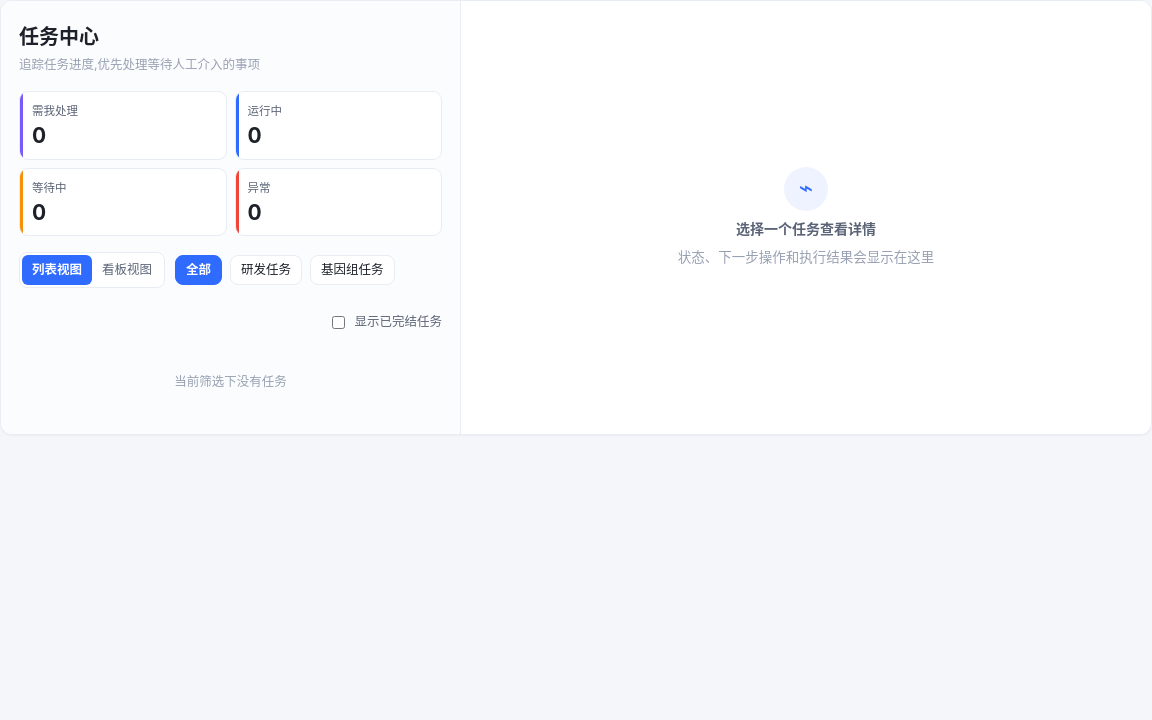
Test: TaskCenter › renders the lanes when the task list loads successfully
Click the button "看板视图".
click(127, 270)  # box x1=92 y1=255 x2=162 y2=285
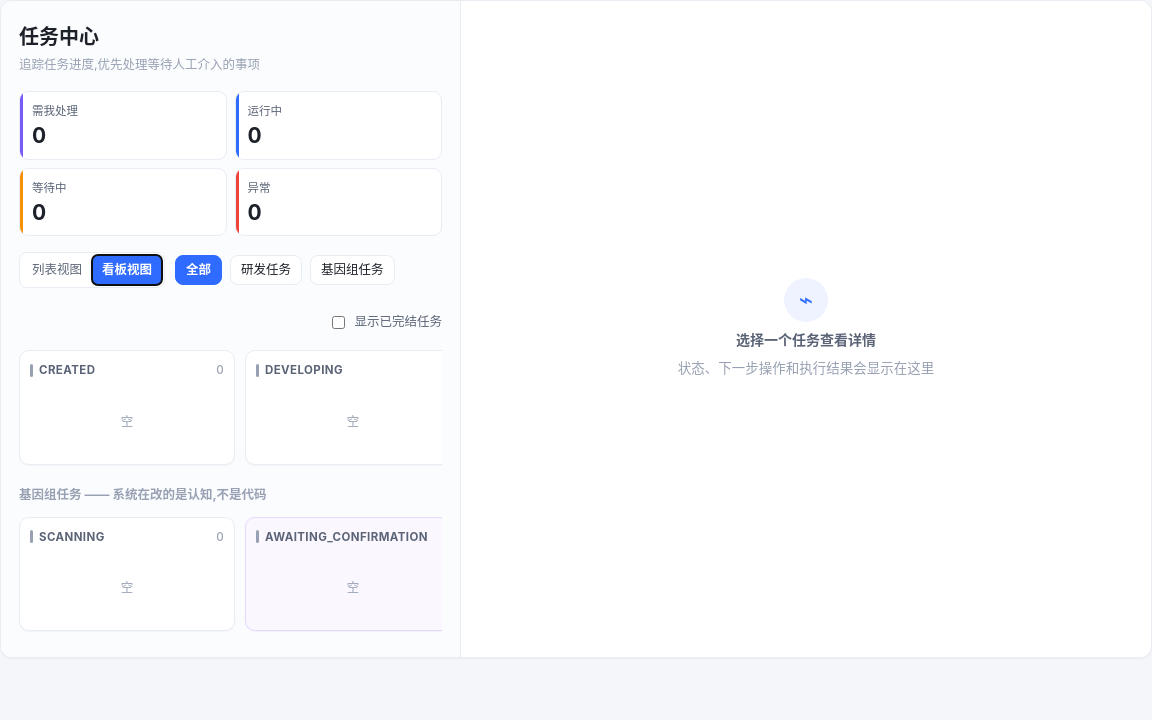
Expected: the heading "CREATED 0" is shown, x1=30 y1=361 x2=224 y2=380
